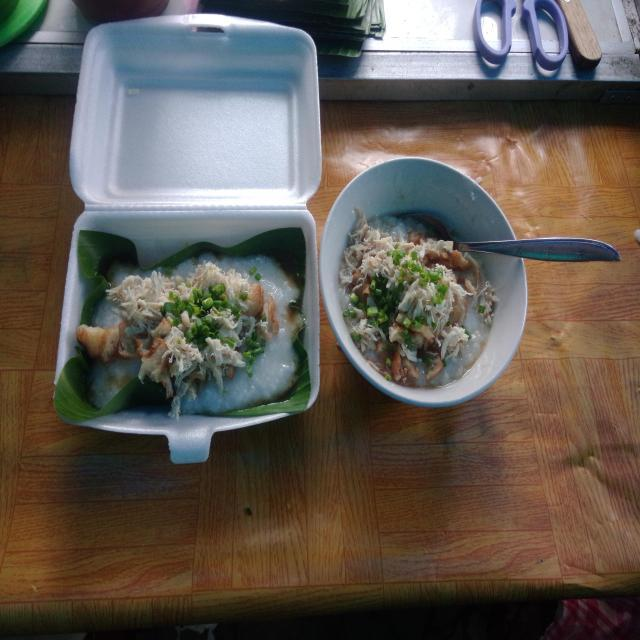bubur ayam: (84, 248, 300, 418), (340, 212, 497, 387)
mangkuk: (317, 156, 528, 408)
